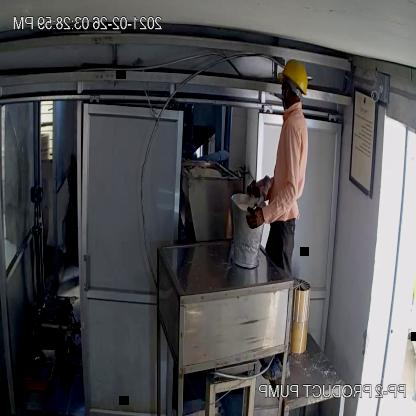helmet: (276, 57, 312, 102)
